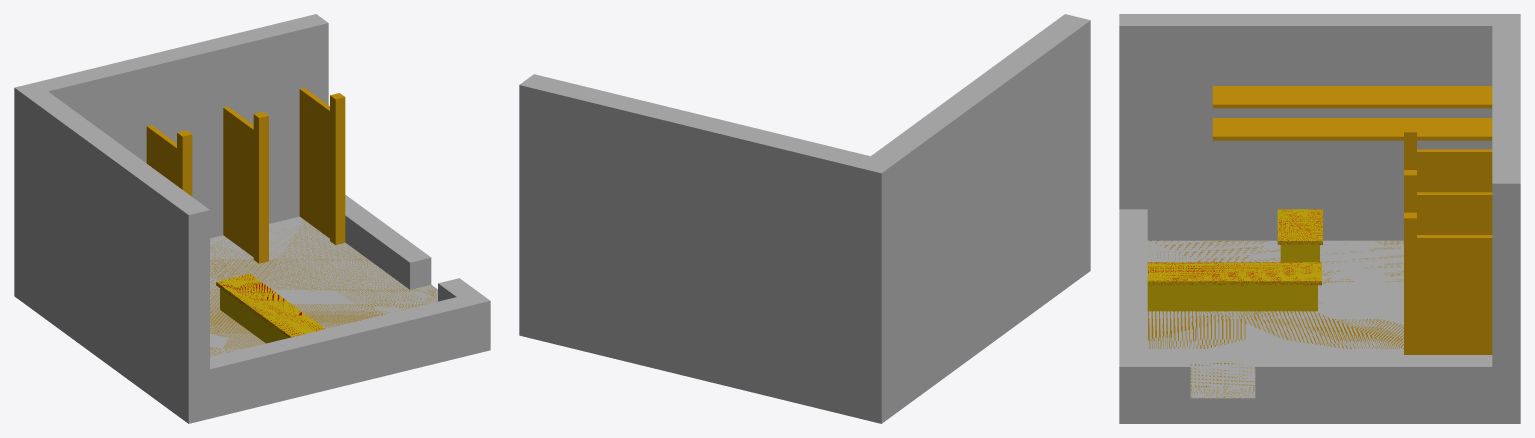
Rendered from tiendaRopa.fbx.
3 views of the same model, side by side, from view 1: azimuth 30°, elevation 25°; view 2: azimuth 150°, elevation 25°; view 3: azimuth 270°, elevation 25° (orthographic). The views are drawn at different scales.
Visible parts, largest first — view 1: group_7, group_8, group_4, group_6, group_1, group_5, group_0; view 2: group_7; view 3: group_7, group_8, group_4, group_9, group_10, group_0, group_1, group_5, group_6, group_3, group_2.
Boxes of the visible parts, box(x1,y1,x2,y2) form: group_7: box(14, 14, 490, 423); group_8: box(210, 216, 437, 356); group_4: box(299, 88, 345, 244); group_6: box(223, 106, 268, 263); group_1: box(216, 273, 324, 337); group_5: box(146, 125, 192, 196); group_0: box(220, 288, 287, 343); group_7: box(519, 14, 1090, 423); group_7: box(1119, 14, 1520, 423); group_8: box(1147, 240, 1403, 398); group_4: box(1404, 212, 1492, 354); group_9: box(1212, 86, 1492, 108); group_10: box(1212, 118, 1492, 140); group_0: box(1147, 285, 1317, 311); group_1: box(1147, 262, 1321, 285); group_5: box(1404, 127, 1492, 192); group_6: box(1404, 170, 1492, 234); group_3: box(1277, 209, 1322, 244); group_2: box(1280, 245, 1319, 262).
Size of the model in its own units: 932 by 616 by 932.
